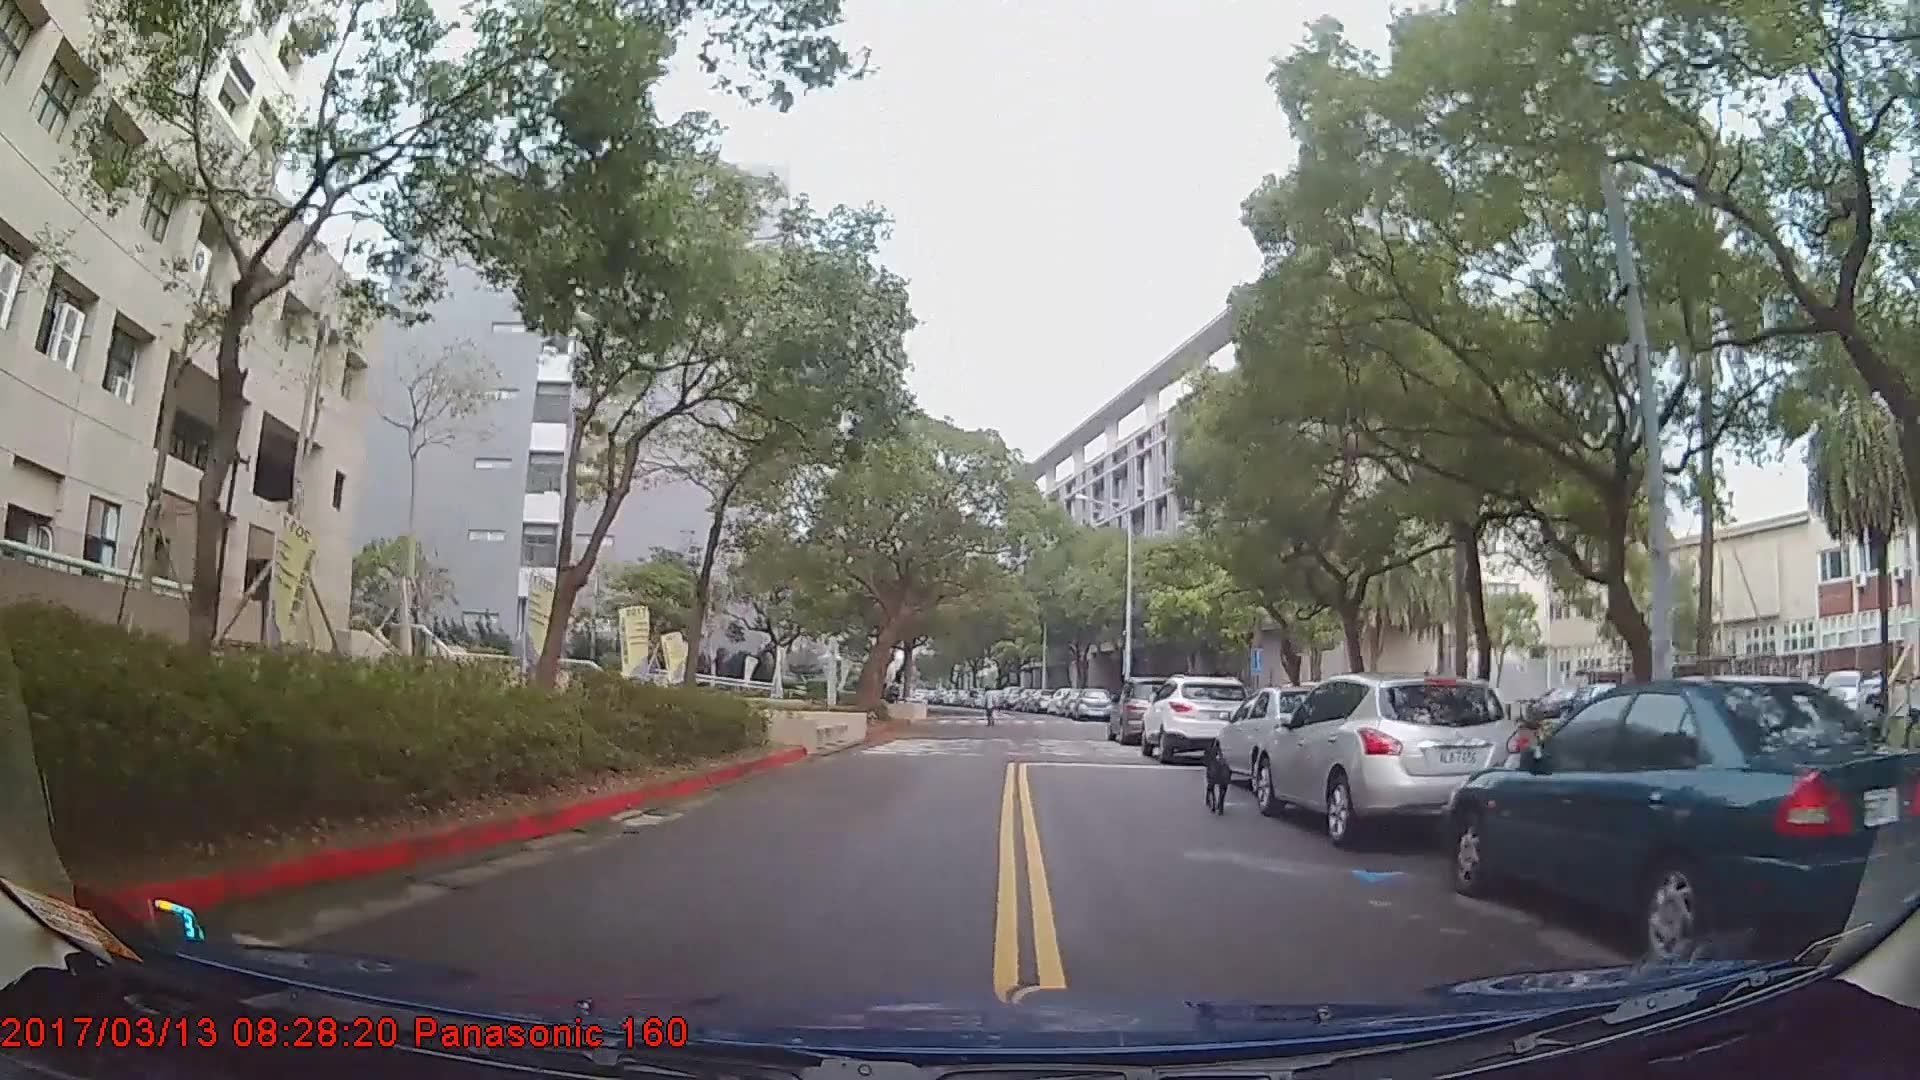pedestrian: (983, 687, 1003, 729)
vehicle: (1453, 679, 1920, 959), (1257, 670, 1534, 845), (1213, 684, 1362, 797), (1143, 672, 1257, 761), (1107, 677, 1193, 745), (1070, 686, 1112, 719)
